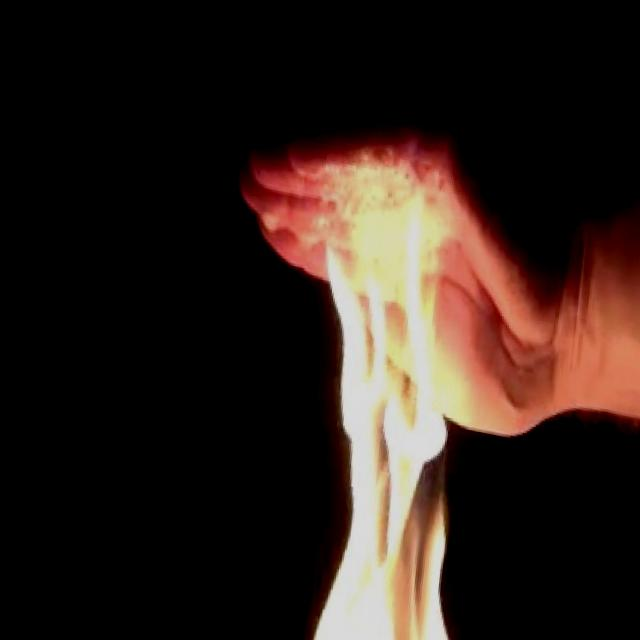helmet: (273, 178, 522, 640)
